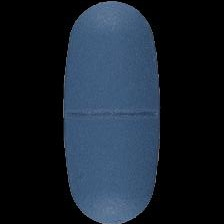42549-566: (0, 0, 224, 224)
